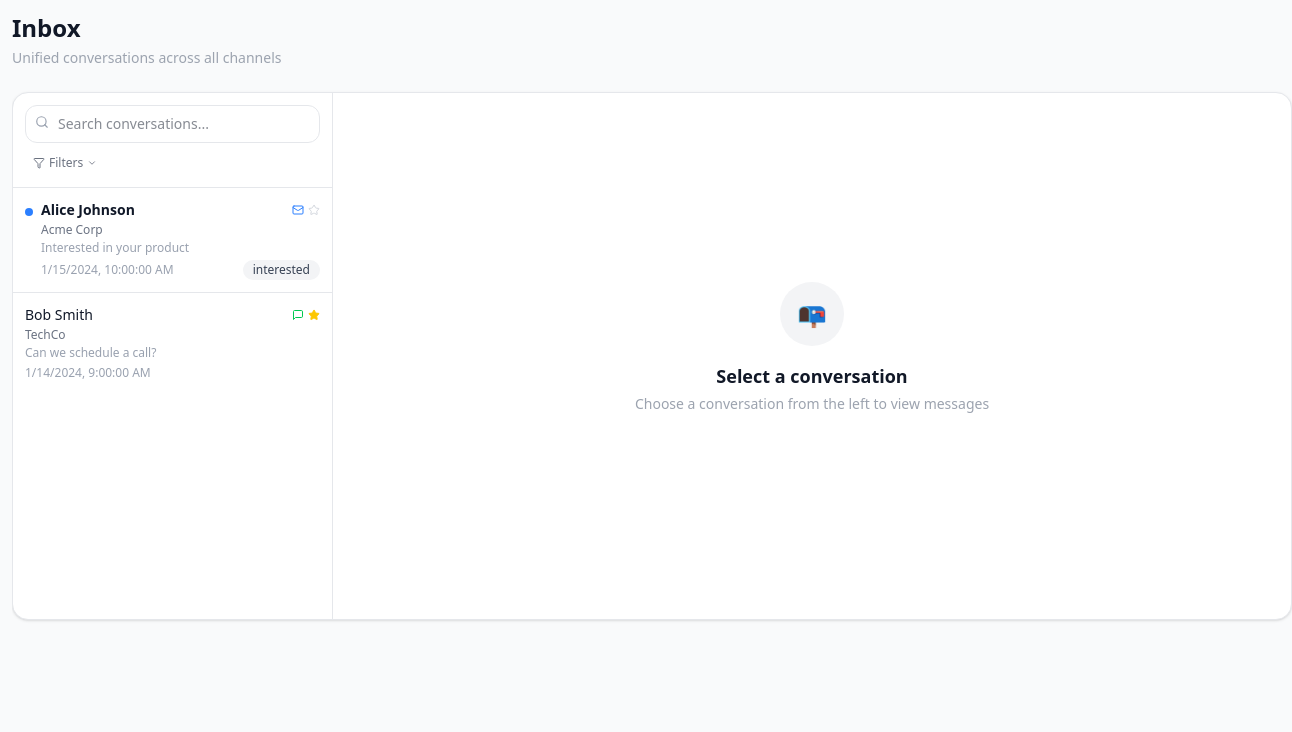
UnifiedInbox › loads messages when a conversation is clicked
The width and height of the screenshot is (1292, 732).
Click the button with test id "conversation-item-lead-1": (172, 240) [13,188,332,293]
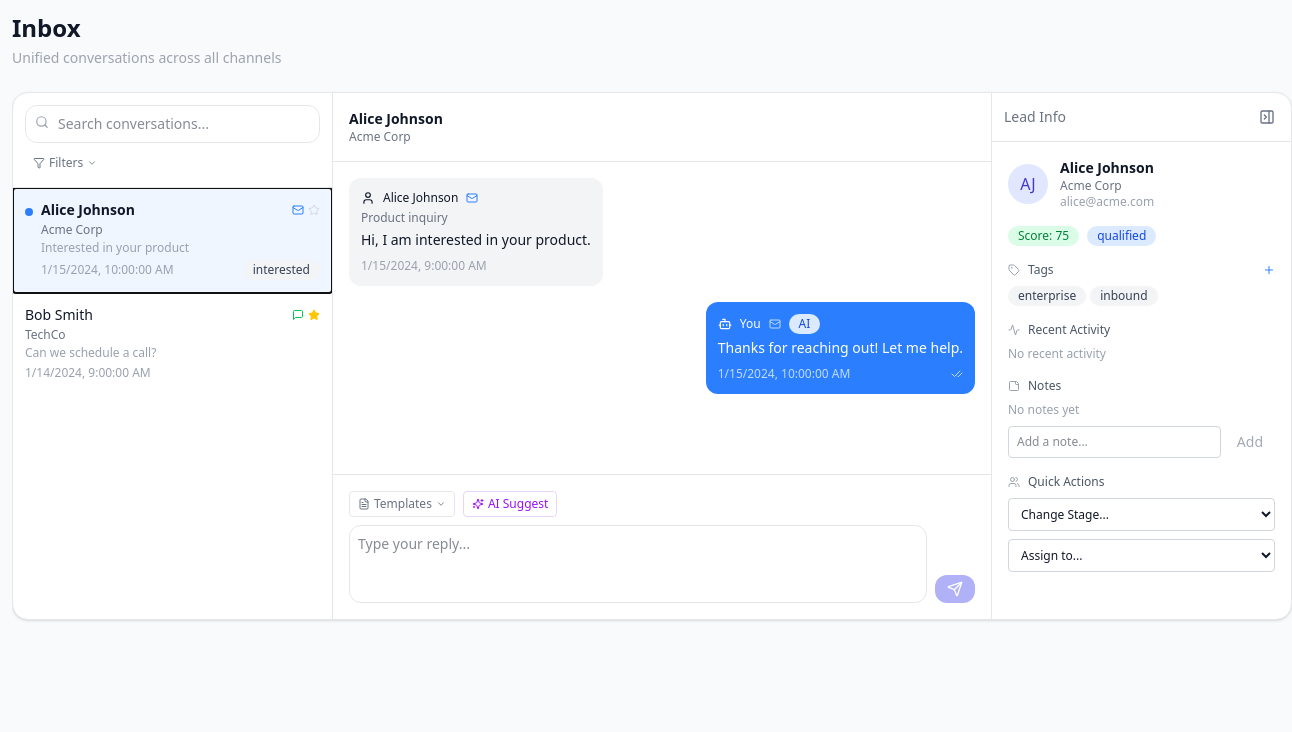
Expected: the element with test id "message-thread" is shown, [333,162,991,474]
